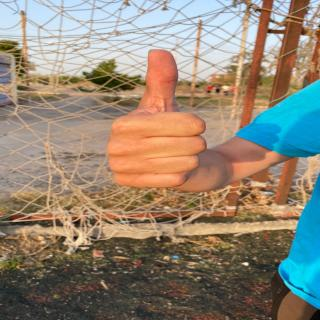ALIF: (108, 38, 240, 196)
